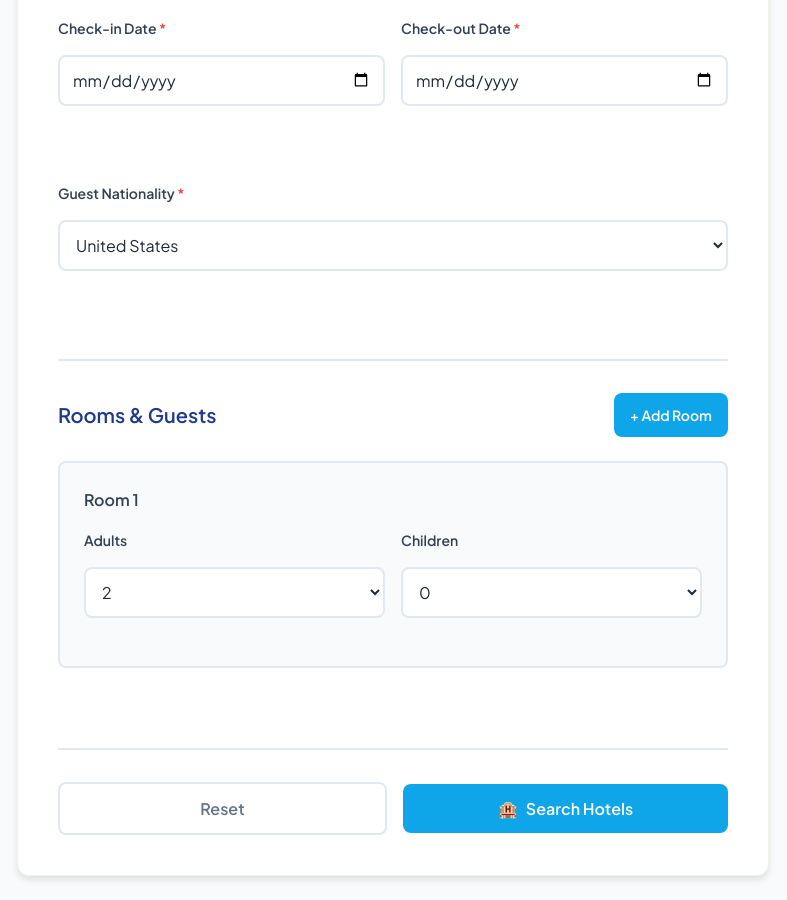
HotelSearchForm › Form Validation › should show error when city code is empty
(page scrolled)
What coordinates should you click on to do the following:
click the button "🏨 Search Hotels"
I would click on:
 (566, 809)
Its box is left=403, top=784, right=728, bottom=833.
(page scrolled)
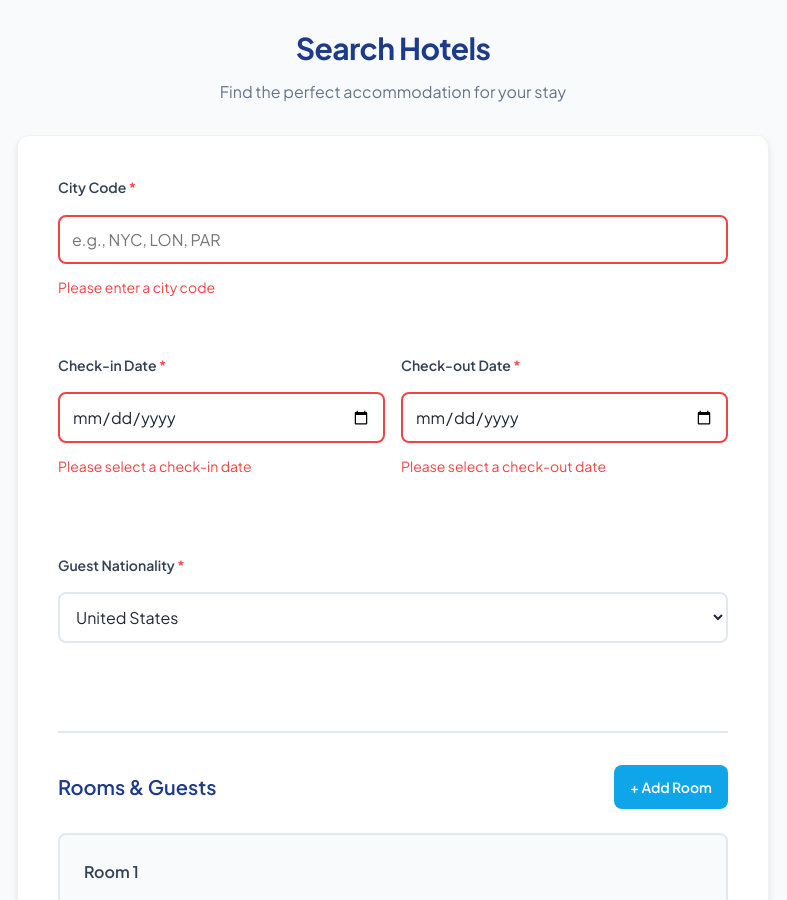
Check: the text "Please enter a city code" is shown, box left=58, top=278, right=215, bottom=296
